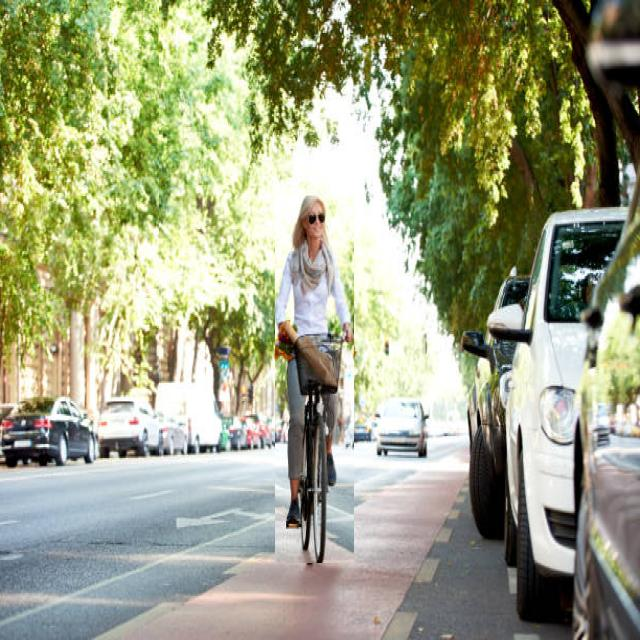bicycle: (275, 195, 354, 563)
